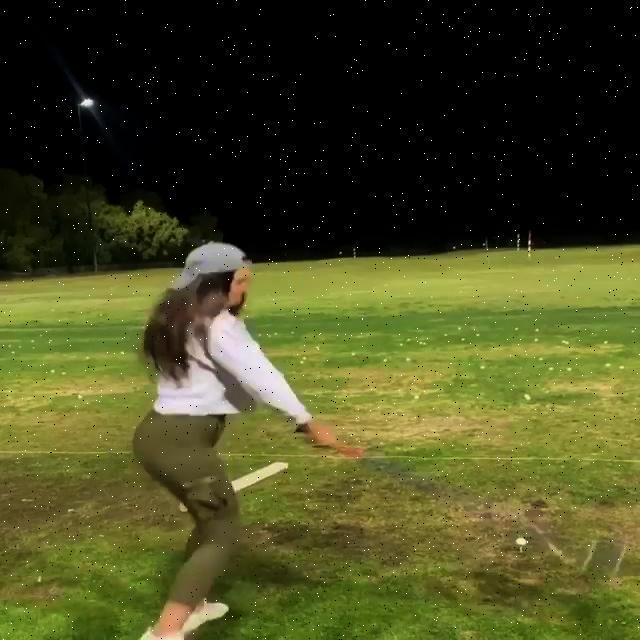golf ball: (515, 538, 528, 547)
golf club-handle: (293, 423, 512, 523)
